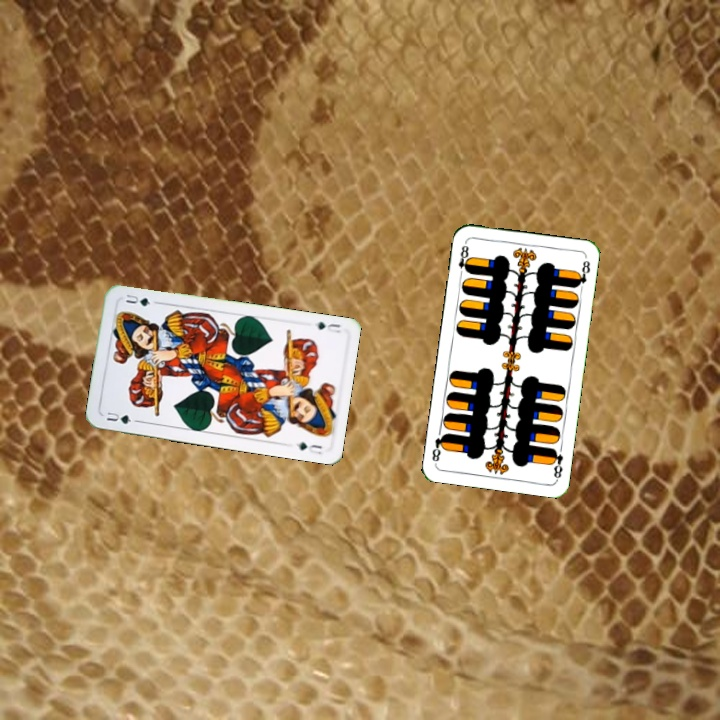E8: (454, 238, 473, 279), (547, 444, 566, 482)
GU: (311, 318, 343, 336), (103, 408, 134, 426)
